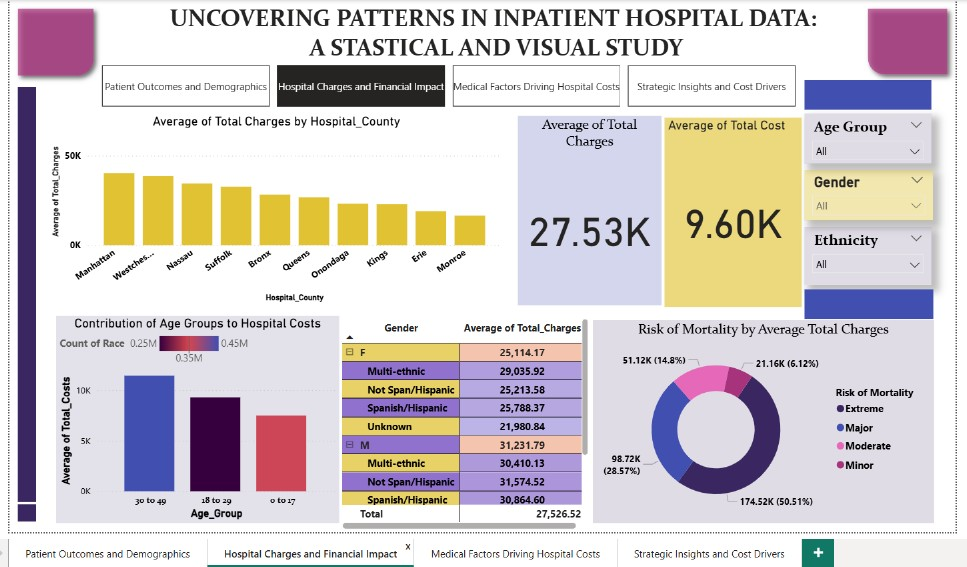

The dashboard page shown, as its layout file describes it:
{"tool":"powerbi","page":{"name":"Hospital Charges and Financial Impact","canvas":[1280,720],"ordinal":1},"visuals":[{"type":"shape","box":[0,0,125,113.3],"z":0},{"type":"slicer","fields":{"Values":["data_cleaned.Age_Group"]},"box":[1075,153.3,171.7,68.3],"z":1000},{"type":"slicer","title":"GENDER","fields":{"Values":["data_cleaned.Gender"]},"box":[1075,230,173.3,68.3],"z":2000},{"type":"slicer","fields":{"Values":["data_cleaned.Ethnicity"]},"box":[1075,306.7,171.7,78.3],"z":3000},{"type":"shape","box":[1075.7,391.4,174.3,40],"z":4000},{"type":"shape","box":[1075,108.3,171.7,40],"z":5000},{"type":"card","title":"Average of Total Charges","fields":{"Values":["Avg(data_cleaned.Total_Charges)"]},"box":[687.1,157.1,194.3,255.7],"z":6000},{"type":"donutChart","title":"Risk of Mortality by Average Total Charges","fields":{"Category":["data_cleaned.APR_Risk_of_Mortality"],"Y":["Avg(data_cleaned.Total_Charges)"]},"box":[788.6,432.9,461.4,274.3],"z":7000},{"type":"columnChart","title":"Contribution of Age Groups to Hospital Costs","fields":{"Category":["data_cleaned.Age_Group"],"Y":["Avg(data_cleaned.Total_Costs)"]},"box":[62.9,427.1,382.9,280],"z":8000},{"type":"pivotTable","fields":{"Rows":["data_cleaned.Gender","data_cleaned.Ethnicity"],"Values":["Avg(data_cleaned.Total_Charges)"]},"box":[445.7,425.7,342.9,294.3],"z":9000},{"type":"shape","box":[1150,0,130,111.7],"z":10000},{"type":"shape","box":[11.7,116.7,25,561.7],"z":11000},{"type":"shape","box":[11.7,681.7,25,23.3],"z":12000},{"type":"columnChart","title":"Average of Total Charges by Hospital_County","fields":{"Category":["data_cleaned.Hospital_County"],"Y":["Avg(data_cleaned.Total_Charges)"]},"box":[51.4,152.9,618.6,260],"z":13000},{"type":"card","title":"Average of Total Cost","fields":{"Values":["Avg(data_cleaned.Total_Costs)"]},"box":[885.7,158.6,185.7,255.7],"z":14000},{"type":"pageNavigator","box":[124.7,88,941.6,56.3],"z":15000},{"type":"textbox","box":[162.6,0,991.7,88],"z":16000}]}

Visuals, with their boxes on the page's 1280x720 design canvas (x1, y1, x2, y2). These are canvas units, not pixel positions in the 967x567 screenshot, which may show the page scaled, cropped or inside an application window:
shape: crop(0, 0, 125, 113)
slicer - data_cleaned.Age_Group: crop(1075, 153, 1247, 222)
"GENDER" slicer: crop(1075, 230, 1248, 298)
slicer - data_cleaned.Ethnicity: crop(1075, 307, 1247, 385)
shape: crop(1076, 391, 1250, 431)
shape: crop(1075, 108, 1247, 148)
"Average of Total Charges" card: crop(687, 157, 881, 413)
"Risk of Mortality by Average Total Charges" donutChart: crop(789, 433, 1250, 707)
"Contribution of Age Groups to Hospital Costs" columnChart: crop(63, 427, 446, 707)
pivotTable - data_cleaned.Gender x data_cleaned.Ethnicity: crop(446, 426, 789, 720)
shape: crop(1150, 0, 1280, 112)
shape: crop(12, 117, 37, 678)
shape: crop(12, 682, 37, 705)
"Average of Total Charges by Hospital_County" columnChart: crop(51, 153, 670, 413)
"Average of Total Cost" card: crop(886, 159, 1071, 414)
pageNavigator: crop(125, 88, 1066, 144)
textbox: crop(163, 0, 1154, 88)
